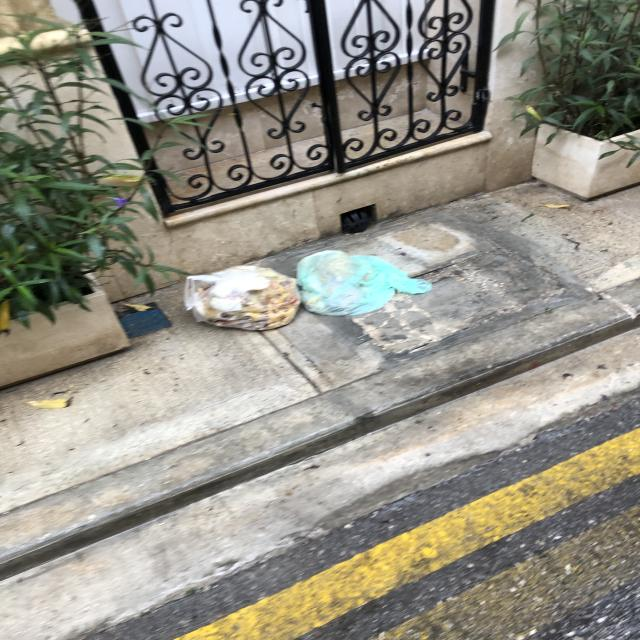Organic Waste -White Bag-: (185, 266, 300, 334)
Recycled Waste -Grey or Green Bag-: (299, 251, 433, 331)
